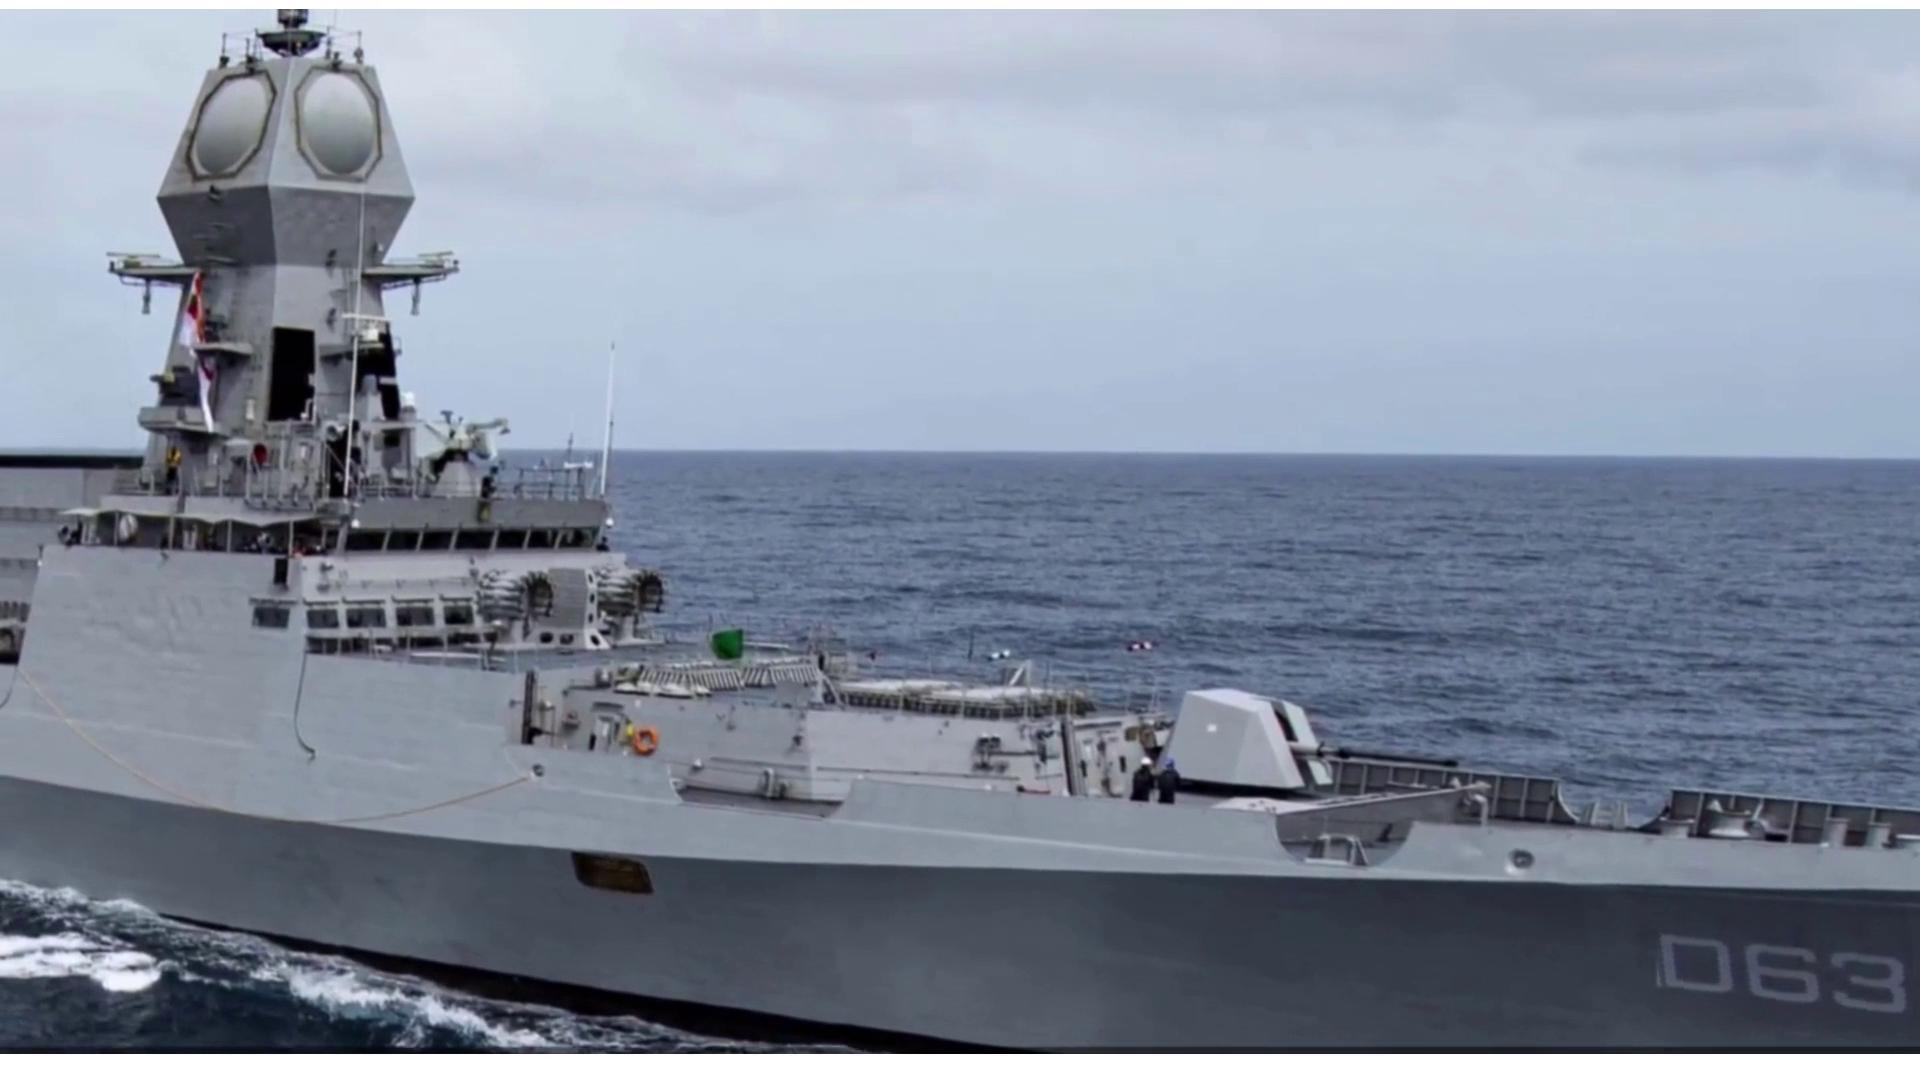OCR: (1651, 924, 1913, 1017)
